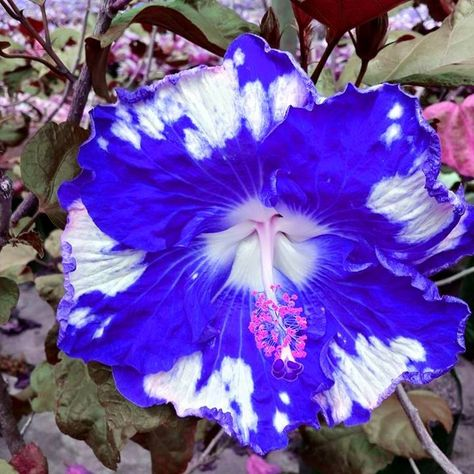Hibiscus: (59, 36, 469, 461)
